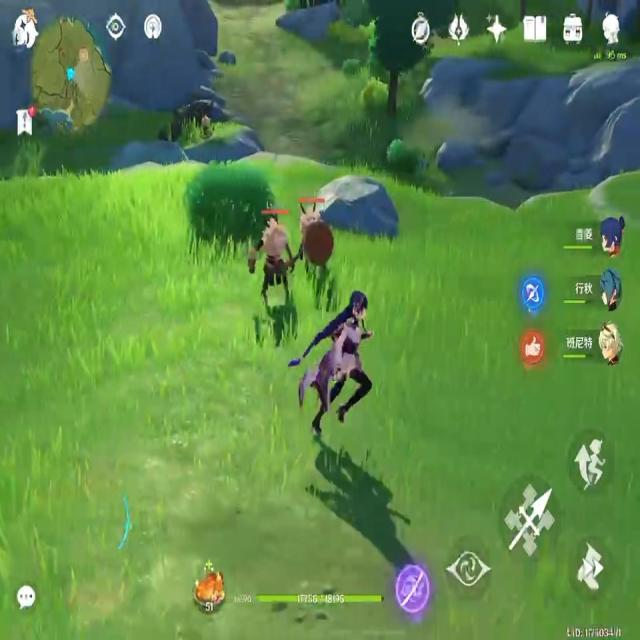genshin-hilichurls: (247, 208, 296, 298), (297, 174, 331, 303)
